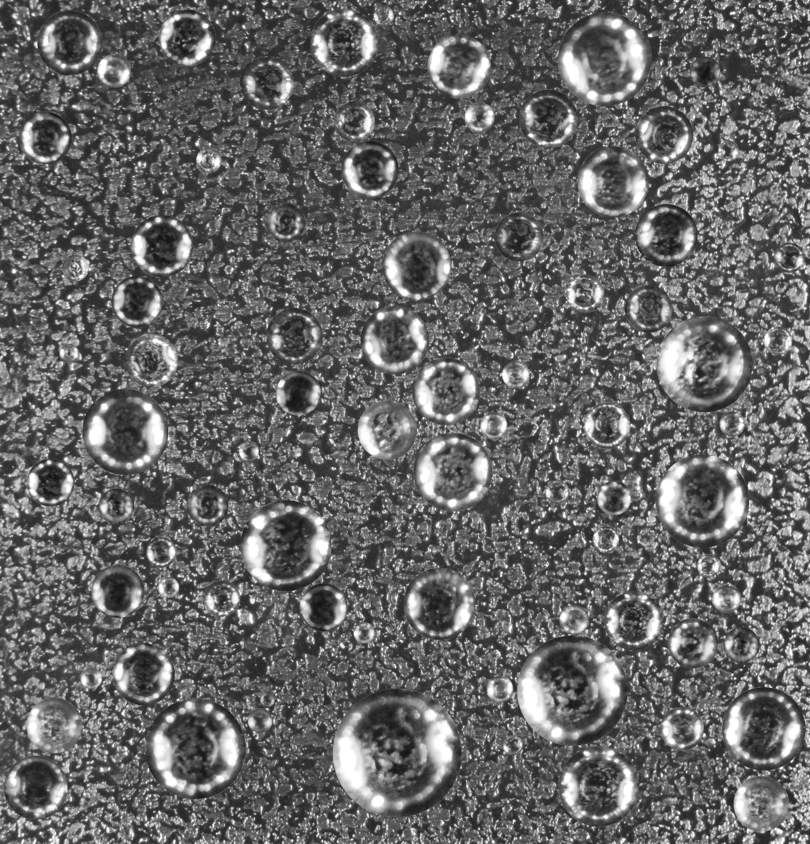Bubble: (332, 688, 461, 817), (517, 635, 627, 745), (145, 698, 245, 799), (656, 316, 752, 412), (558, 12, 651, 105), (656, 454, 749, 547), (240, 500, 331, 591), (82, 389, 168, 474), (722, 687, 805, 770), (558, 746, 639, 826), (413, 432, 492, 511), (403, 568, 475, 639), (577, 146, 648, 217), (382, 231, 451, 300), (360, 306, 428, 374), (310, 8, 378, 76), (412, 357, 479, 425), (37, 10, 102, 75), (3, 755, 67, 819), (427, 35, 490, 98), (112, 643, 174, 705), (635, 204, 697, 266), (131, 215, 193, 277), (604, 591, 663, 650), (357, 400, 416, 459), (519, 89, 577, 148), (635, 106, 693, 163), (341, 141, 398, 198), (159, 9, 215, 66), (26, 697, 82, 753), (266, 308, 322, 364), (733, 776, 789, 831), (124, 334, 177, 387), (240, 56, 293, 109), (91, 565, 144, 617), (19, 111, 71, 164), (111, 276, 162, 327), (668, 618, 718, 668), (494, 212, 543, 261), (26, 458, 74, 506), (299, 583, 347, 631), (625, 285, 672, 332), (584, 402, 630, 448), (276, 371, 320, 415), (660, 707, 703, 750), (186, 484, 228, 526), (334, 101, 374, 141), (265, 203, 304, 242), (566, 275, 604, 312), (723, 627, 759, 663), (204, 580, 240, 616), (98, 488, 134, 524), (597, 481, 631, 515), (97, 54, 130, 87), (689, 56, 720, 87), (146, 537, 176, 567), (464, 102, 494, 132), (774, 242, 804, 272), (559, 605, 589, 634), (712, 584, 741, 612), (764, 326, 792, 354), (480, 412, 507, 439), (502, 361, 529, 388), (592, 526, 619, 552), (486, 676, 513, 702), (62, 254, 88, 281), (196, 147, 221, 172), (719, 411, 744, 436), (247, 708, 272, 732), (545, 480, 569, 503), (697, 554, 720, 577), (353, 622, 374, 643), (80, 667, 101, 688), (158, 577, 179, 598), (718, 140, 738, 161), (373, 5, 394, 25), (503, 735, 522, 755), (59, 343, 78, 363), (239, 441, 258, 461), (260, 692, 274, 707)
